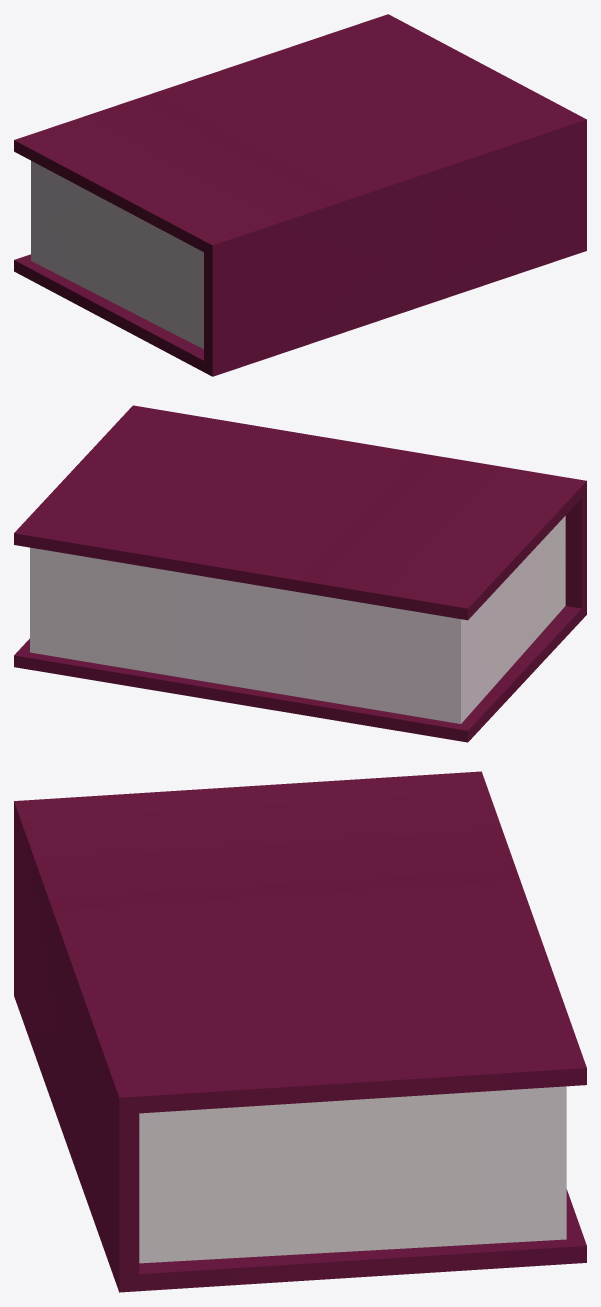
The model's file is book4.fbx.
3 renders of one model, top to bottom at view 1: azimuth 30°, elevation 25°; view 2: azimuth 150°, elevation 25°; view 3: azimuth 270°, elevation 25°, orthographic. The views are drawn at different scales.
Parts seen in each view (by area): view 1: Cube.014; view 2: Cube.014; view 3: Cube.014.
Boxes of the visible parts, x1,y1,x2,y2 form: Cube.014: (14, 14, 586, 376); Cube.014: (14, 405, 586, 742); Cube.014: (14, 771, 586, 1292).
Bounding box in the file's own units: 56.77 × 15.8 × 42.14.
